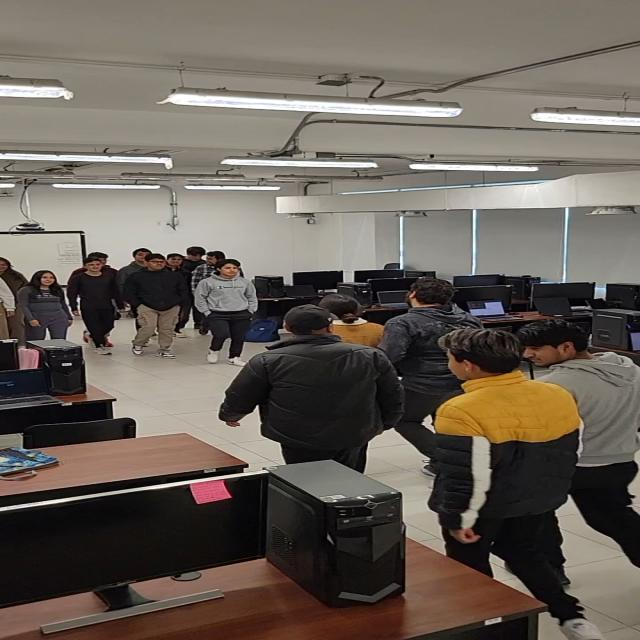Persona: (427, 328, 608, 640), (220, 303, 410, 466), (518, 318, 640, 568), (380, 274, 492, 473), (192, 257, 262, 367), (124, 253, 188, 360), (67, 256, 130, 356), (15, 270, 78, 346), (317, 293, 392, 353), (0, 255, 34, 345), (181, 241, 228, 270), (124, 247, 150, 278), (167, 250, 187, 276)
